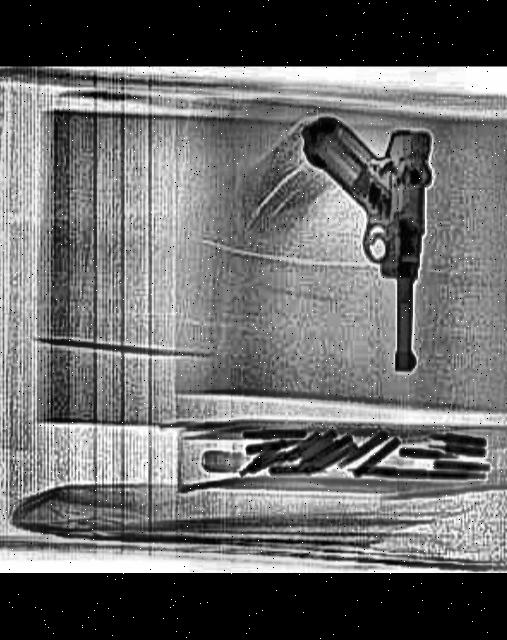Gun: (287, 114, 438, 369)
